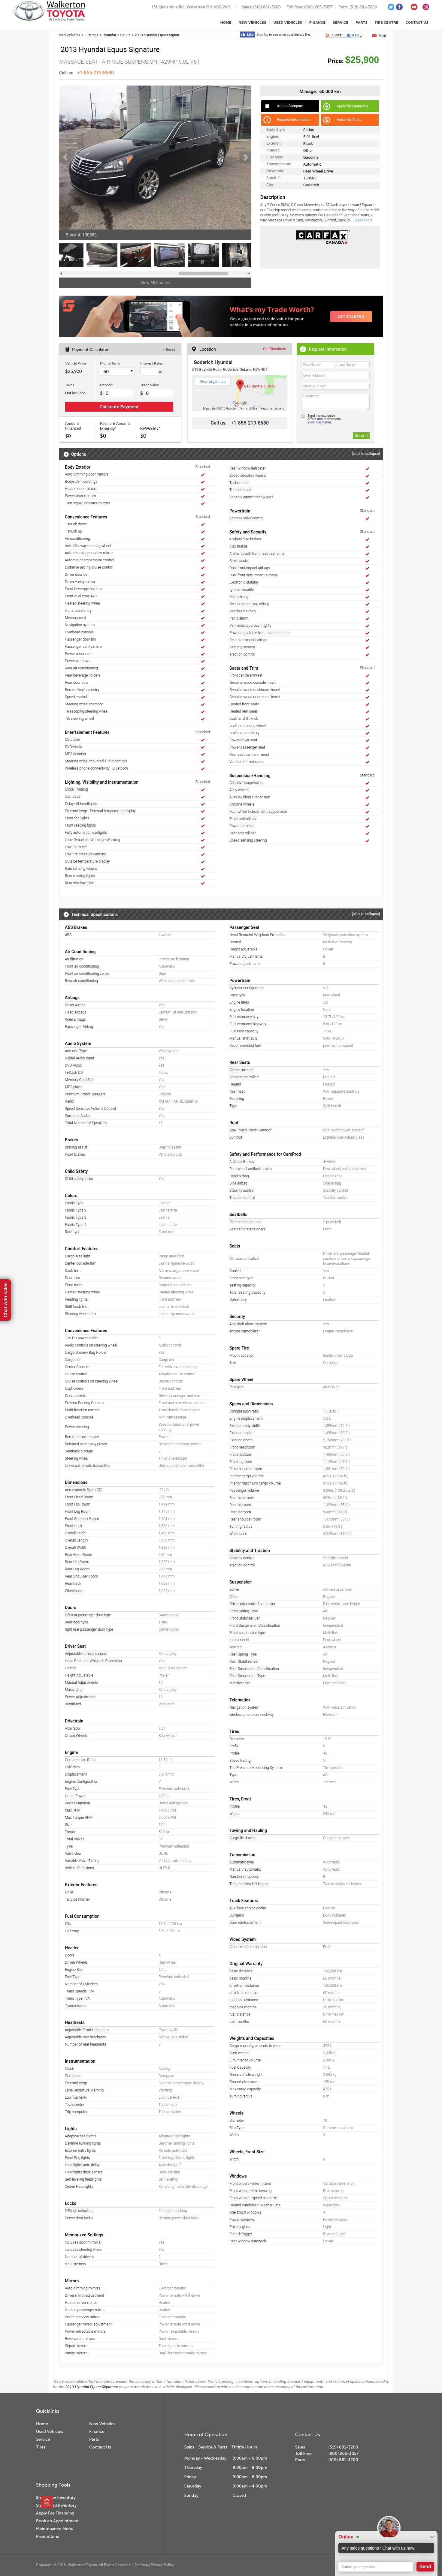car: (243, 154, 248, 161)
